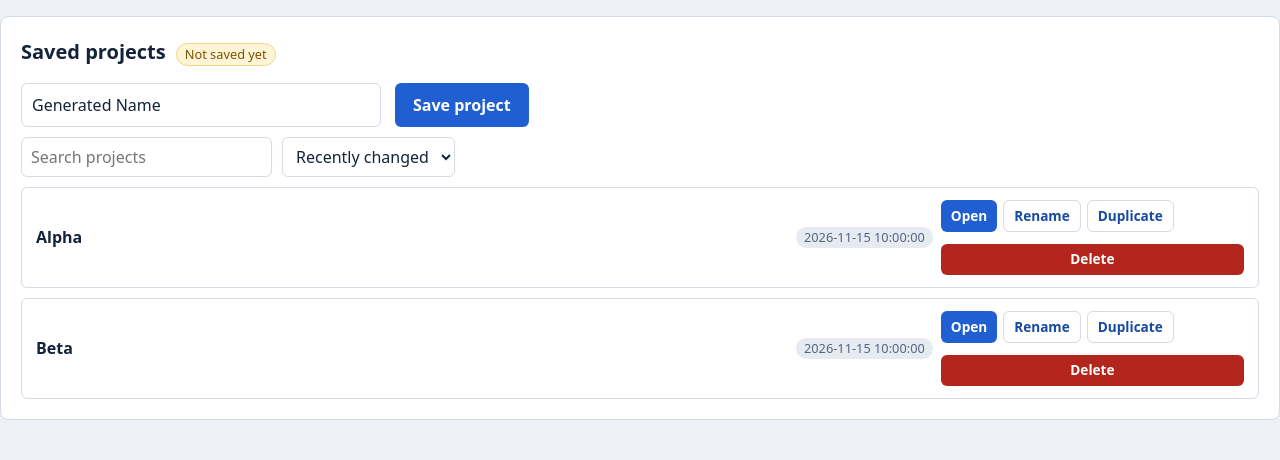
Projects › duplicates a project
Click the button "Duplicate" in the row of "Beta" at (1130, 327), box 1087,311 -> 1174,343
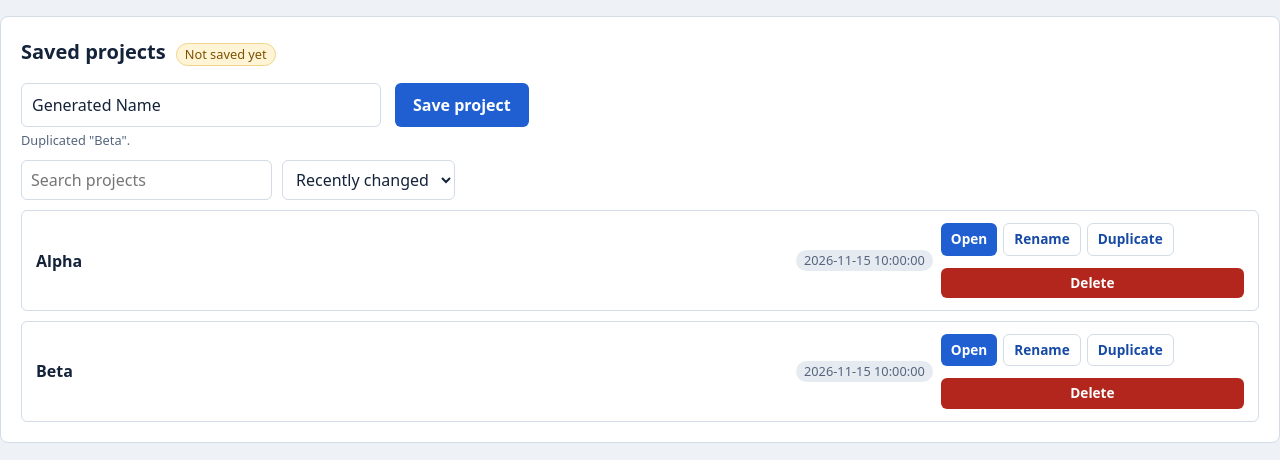
Check: the text "Duplicated \"Beta\"." is shown, box 21,131 -> 130,149
